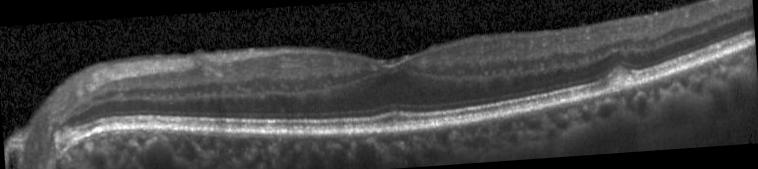retinal_drusen: (609, 73, 638, 91)
